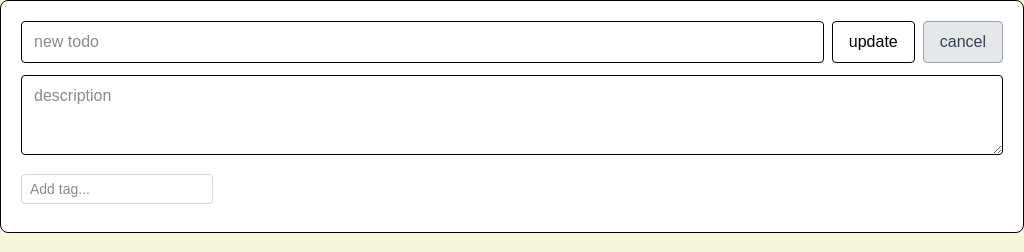
Test case: AddTodo Component › Tag editing interface › should prevent duplicate tags when adding
Try to add existing tag
Type "work" into the field with placeholder "Add tag...". click: (117, 189)
box: [21,174,213,204]
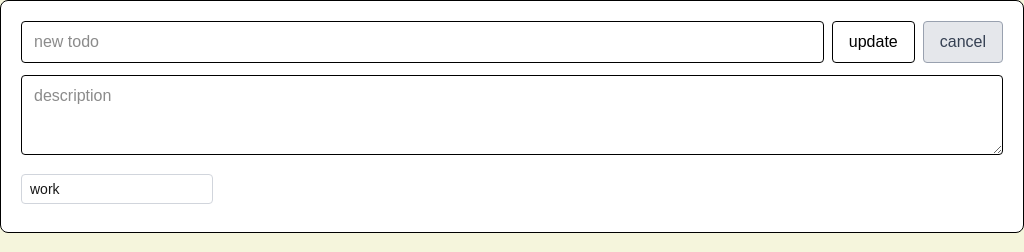
Press Enter in the field with placeholder "Add tag...", box [21,174,213,204]
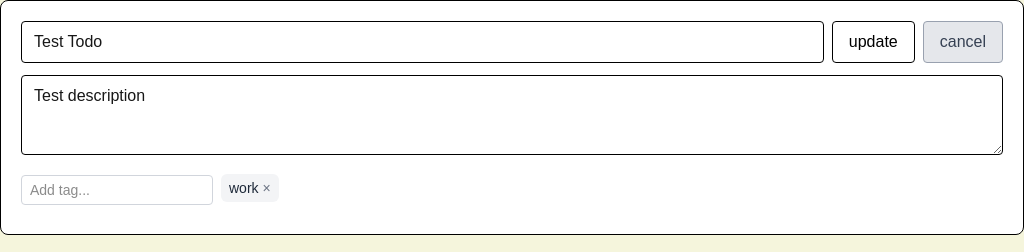
Now the text "work" is shown once, box [221,174,279,202]
